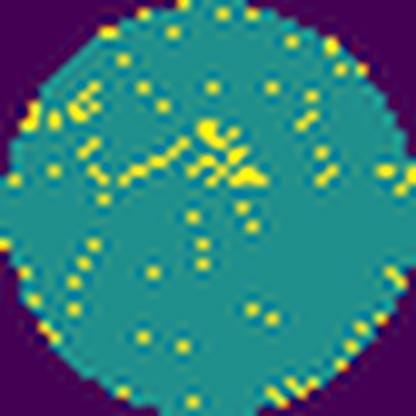Loc: (196, 120, 269, 192)
